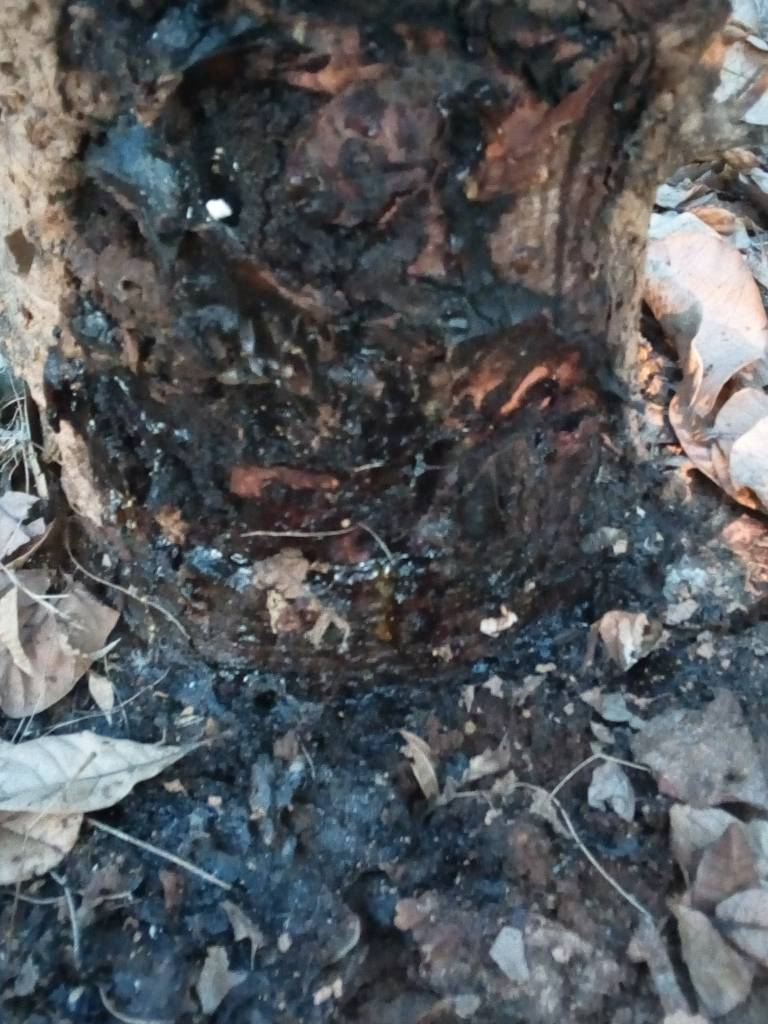Gommose: (63, 2, 624, 674)
